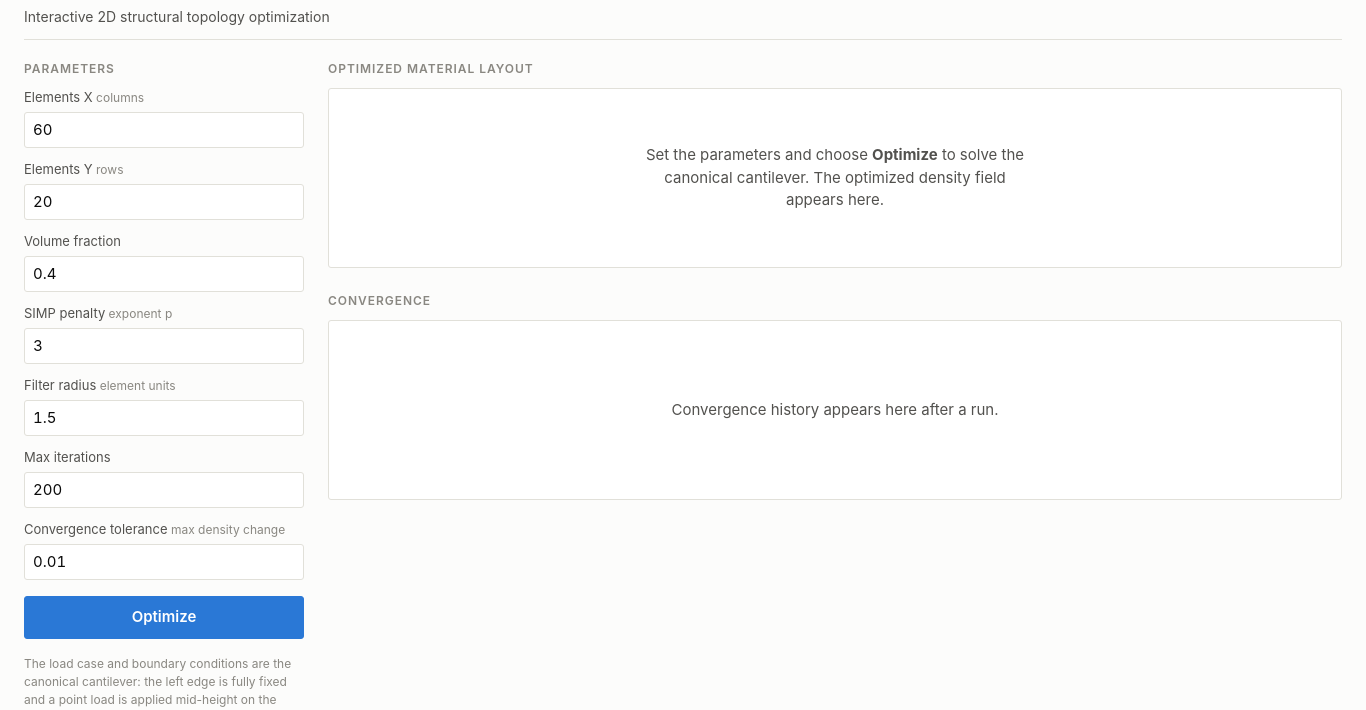
Scenario: failures › surfaces a 422 with the rejected field and its message
Click the button "Optimize": (164, 617) [24, 596, 304, 638]
(page scrolled)
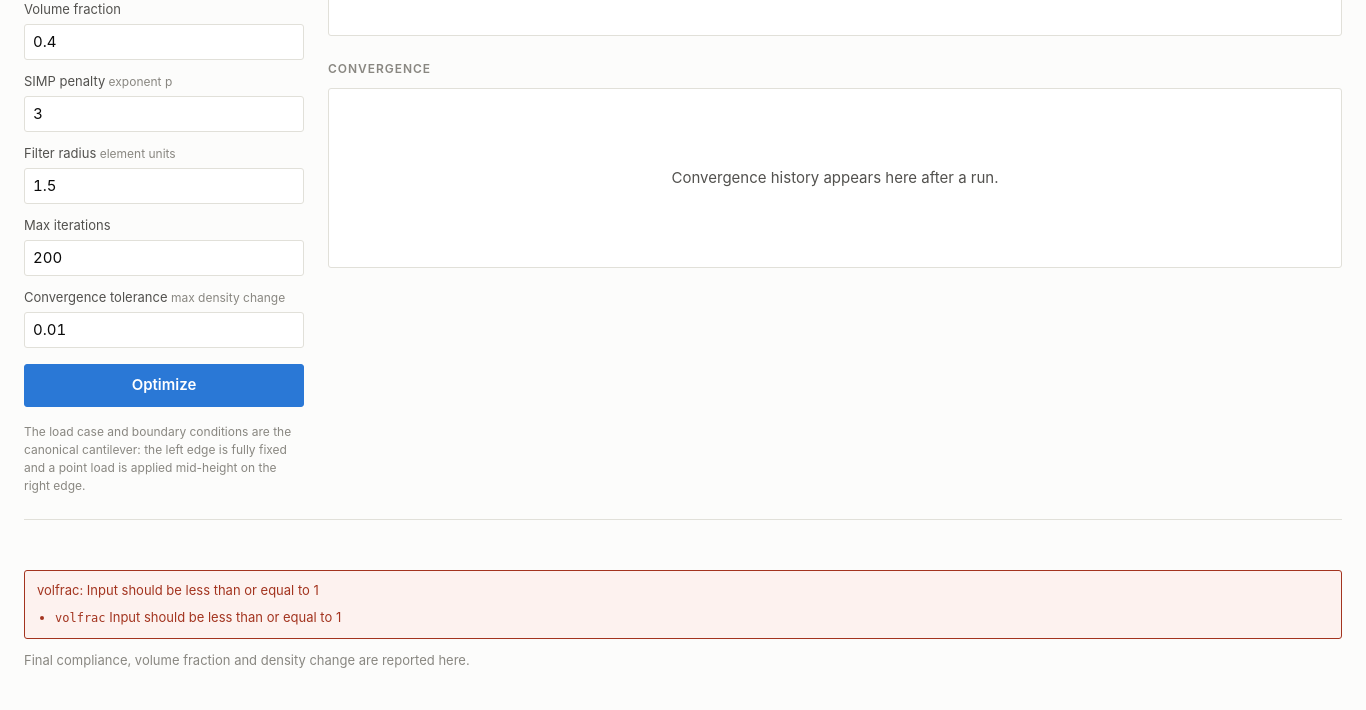
Now the 2nd message shows "volfrac", box [55, 611, 106, 625]
Now the 2nd message shows "less than or equal to 1", box [37, 582, 319, 598]
